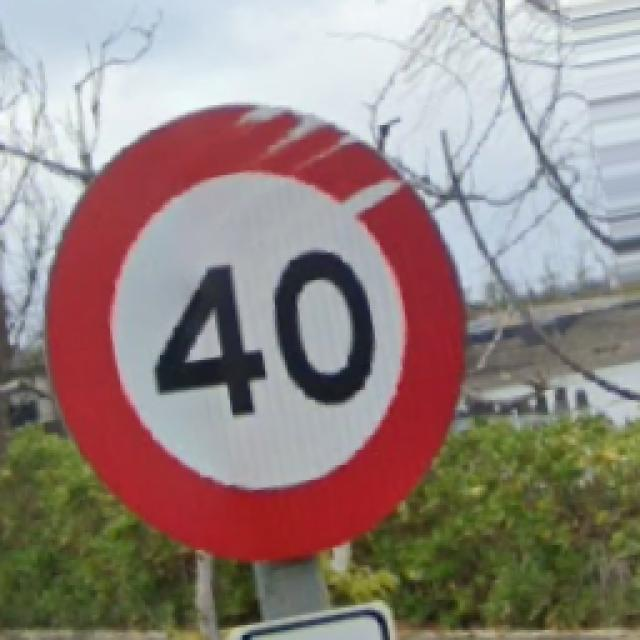Speed Limit -40-: (48, 105, 462, 562)
